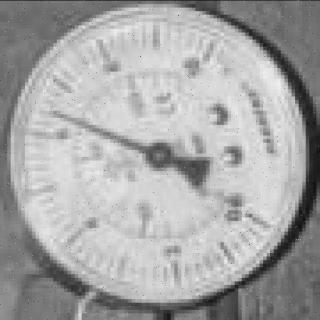gauge: (0, 0, 320, 320), (222, 180, 276, 241), (180, 25, 236, 83), (144, 142, 174, 170), (44, 106, 66, 122)
